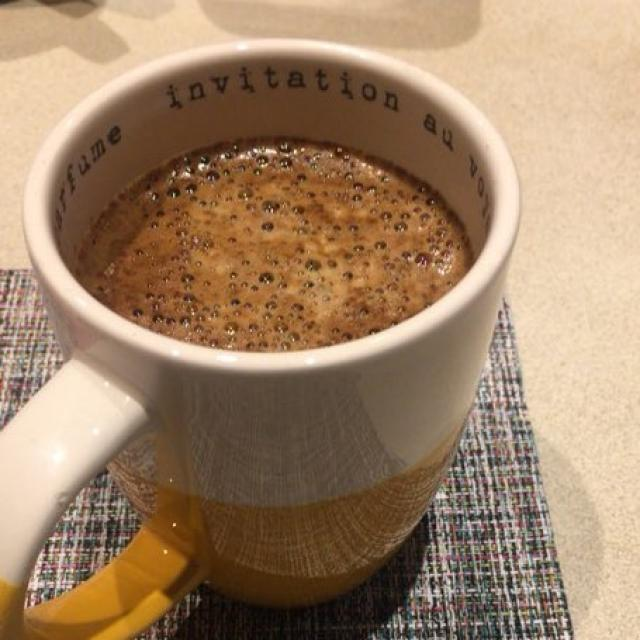coffee: (87, 134, 465, 347)
